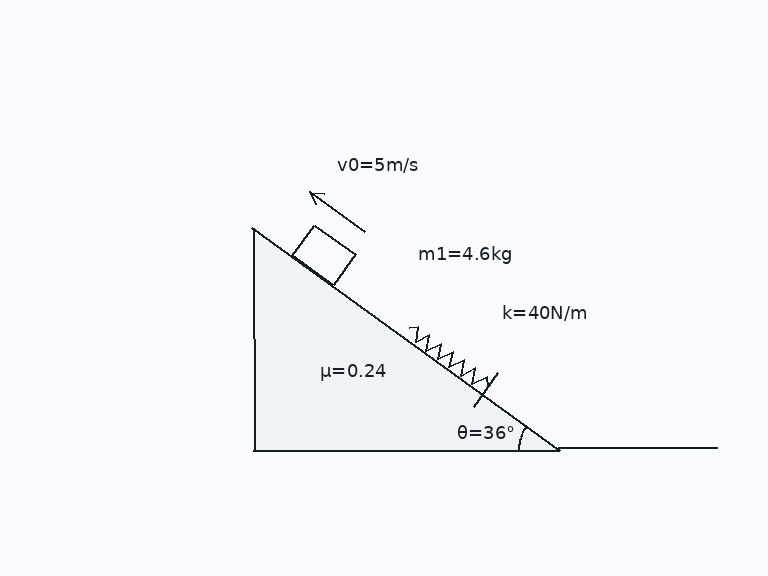block: (290, 223, 357, 287)
ramp: (251, 225, 561, 451)
spring: (406, 325, 490, 388)
